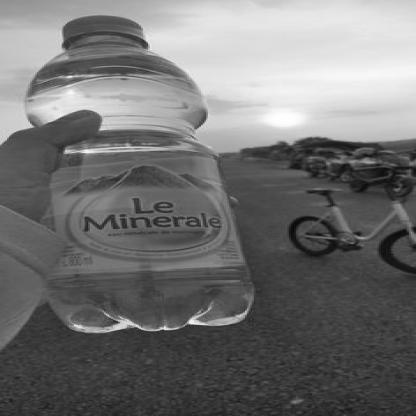plastic_bottles: (20, 14, 260, 335)
